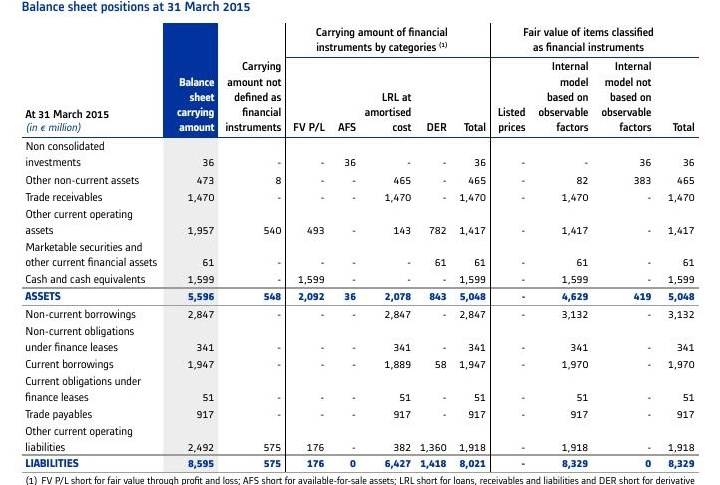table: (0, 0, 720, 485)
